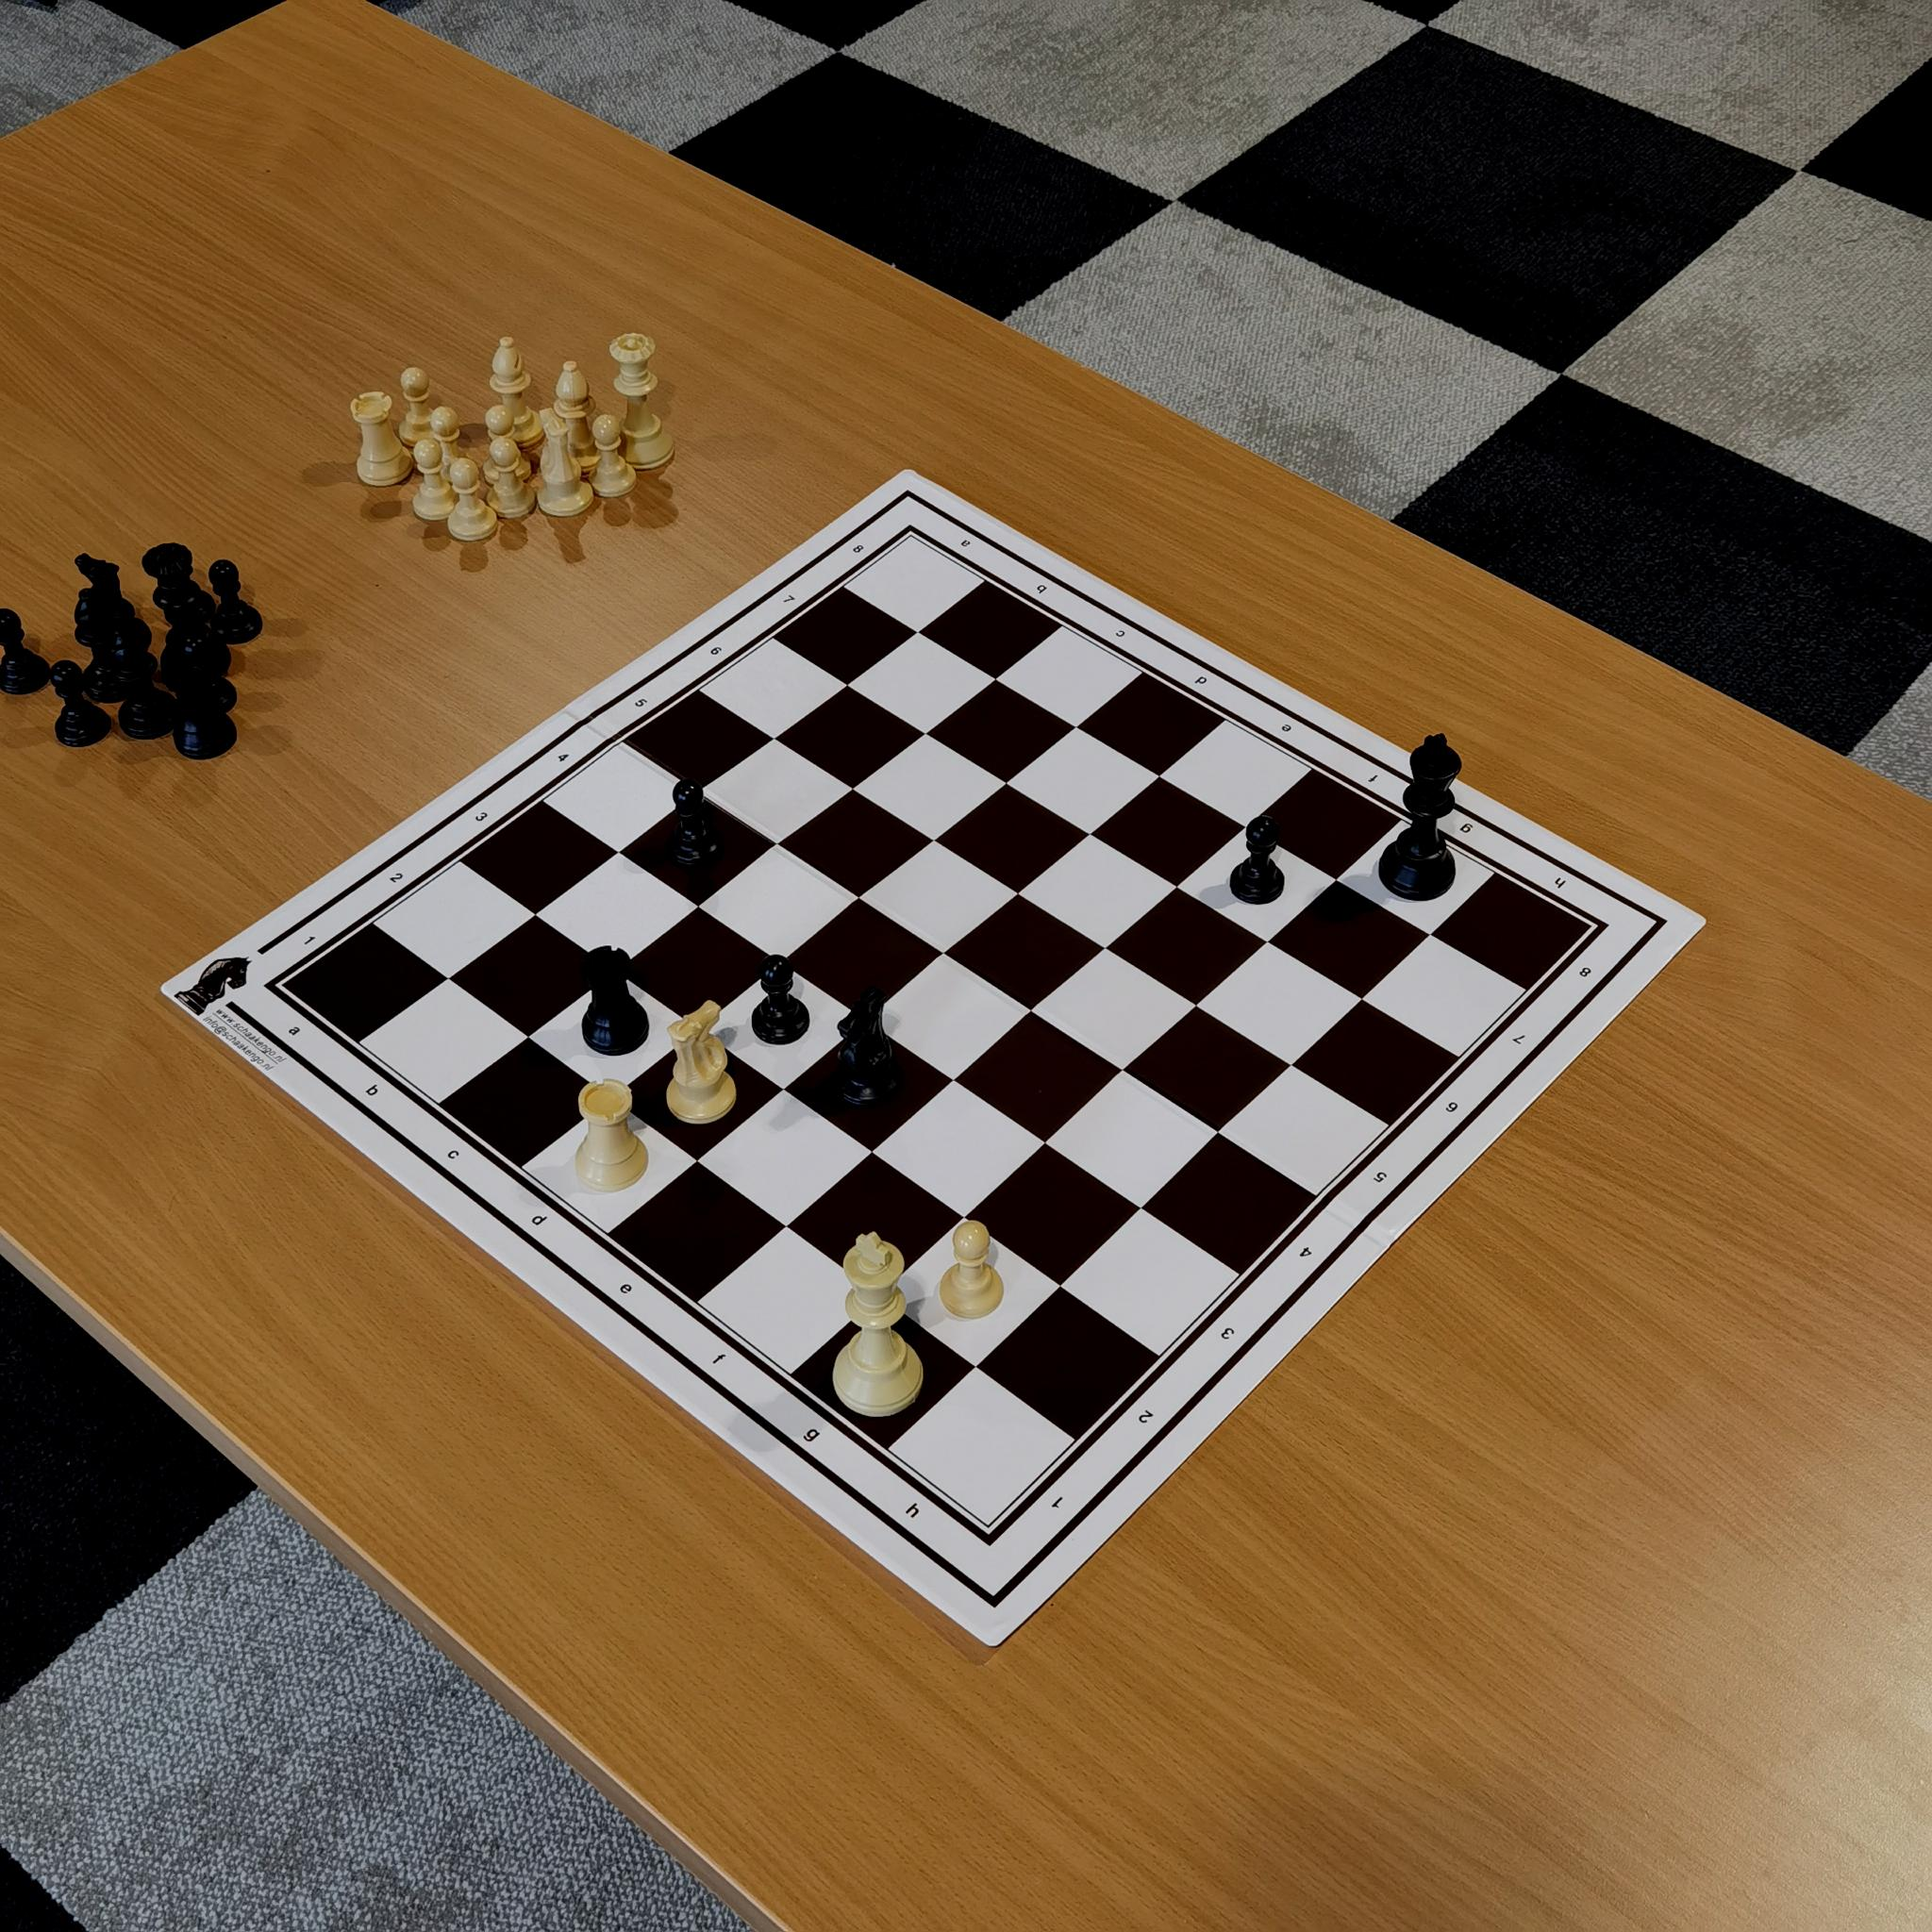corners: (962, 1502, 1016, 1555), (258, 964, 310, 1005), (1569, 911, 1622, 947), (885, 520, 931, 559)
eight: (1568, 955, 1605, 985), (846, 534, 870, 563)
one: (1040, 1479, 1081, 1525), (295, 927, 329, 961)
